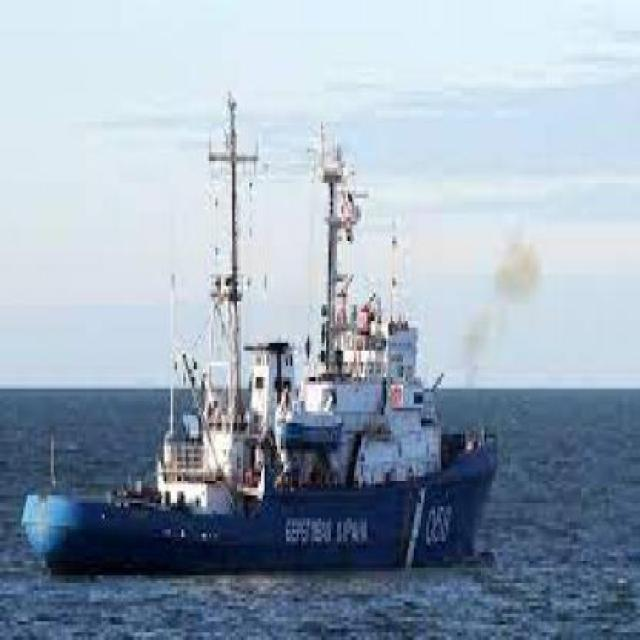fish-b: (16, 81, 505, 584)
